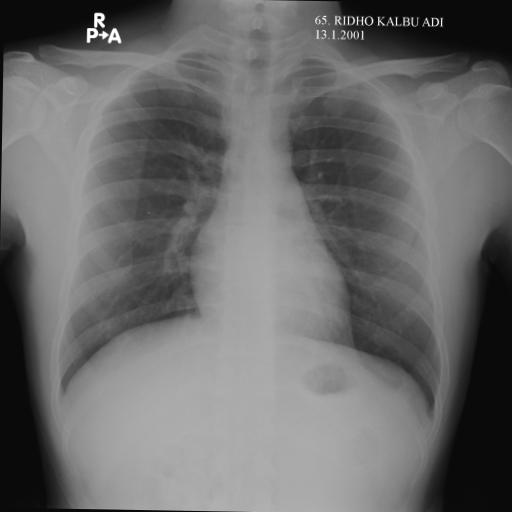normal: (48, 16, 456, 436)
